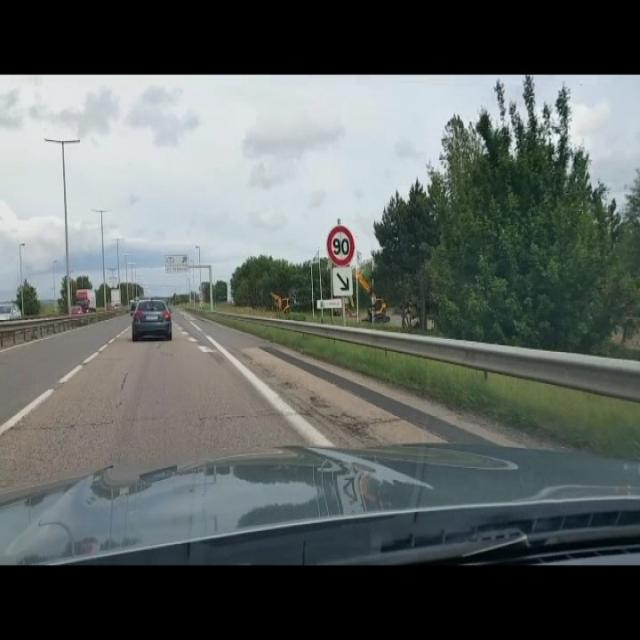direction: (163, 251, 191, 274)
side_right: (334, 264, 353, 296)
speed_90: (328, 224, 356, 266)
